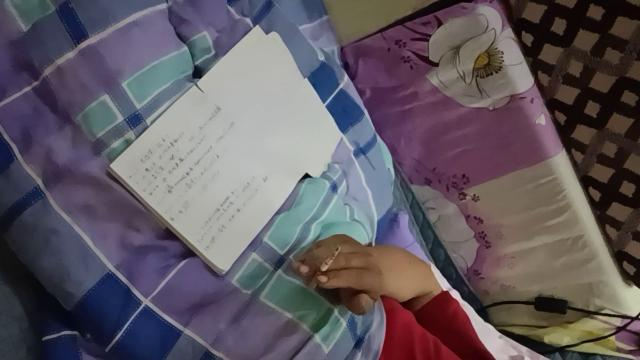Cigarette: (308, 244, 342, 290)
